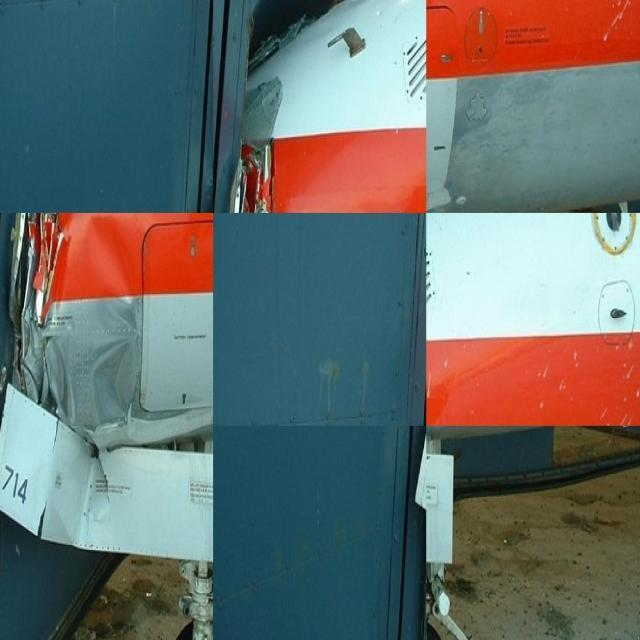dent: (77, 219, 144, 435)
